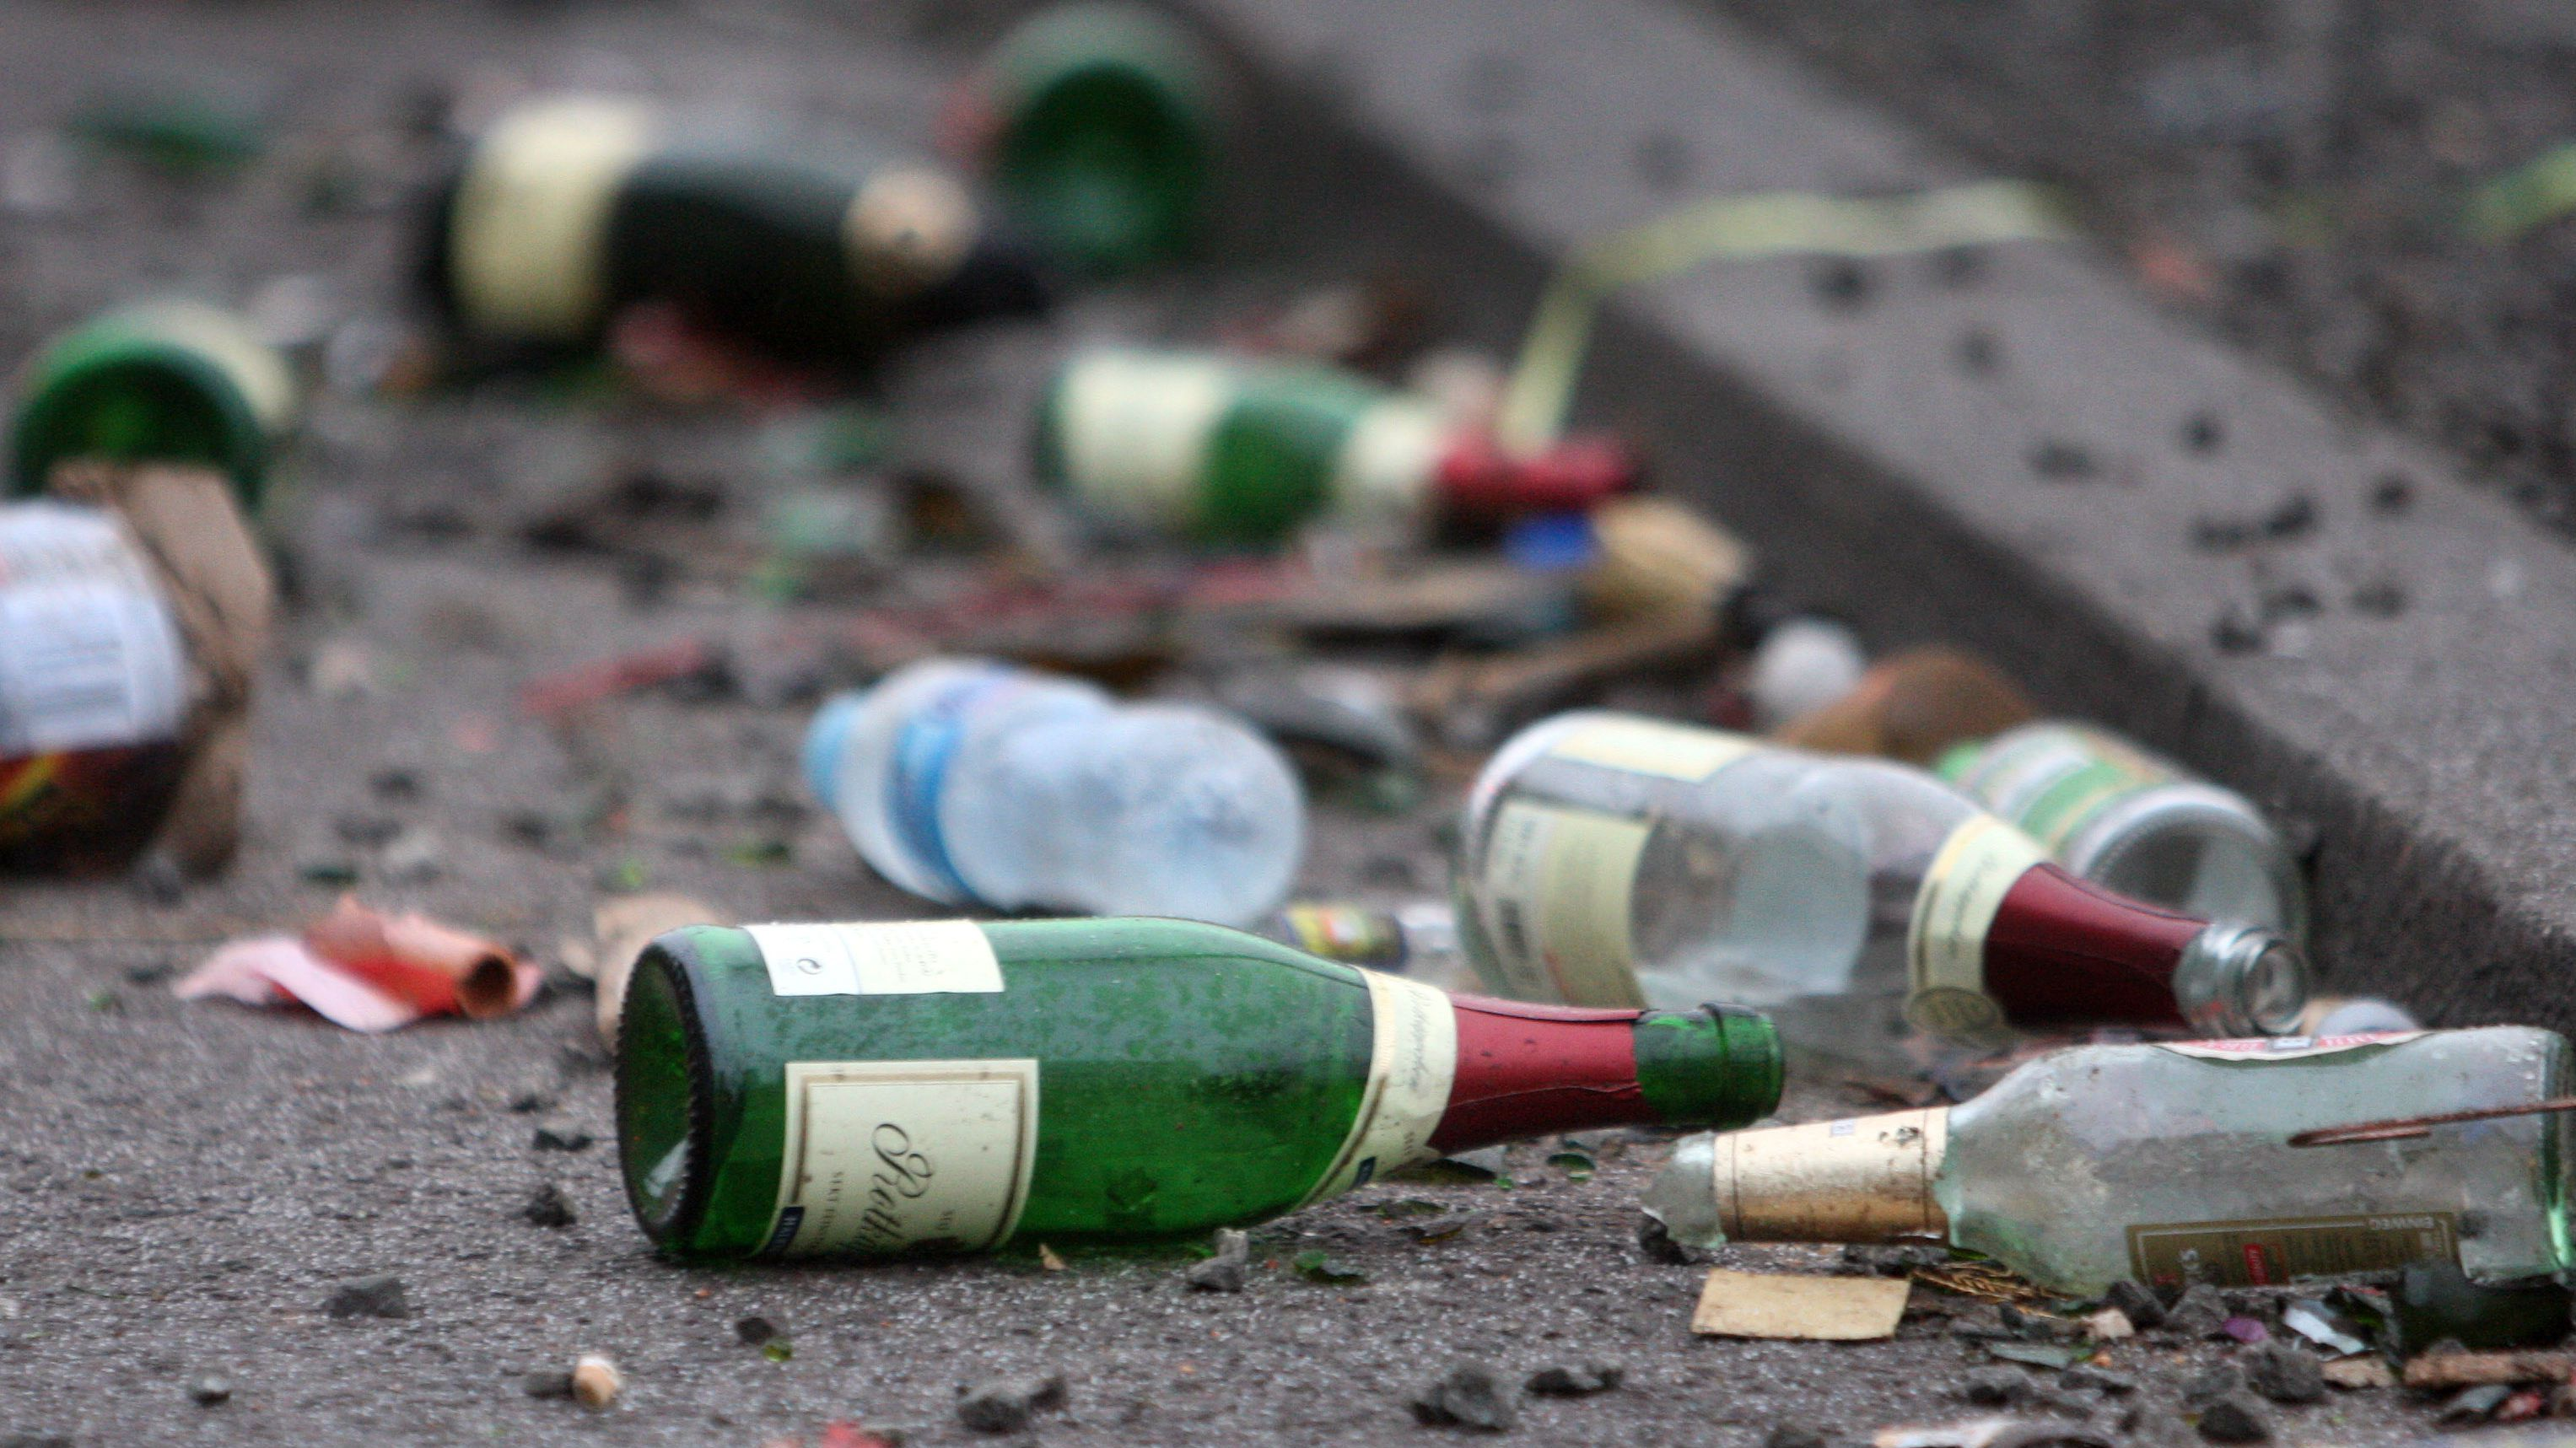bottle: (602, 918, 1796, 1275), (1438, 702, 2298, 1050), (1651, 1022, 2576, 1321)
